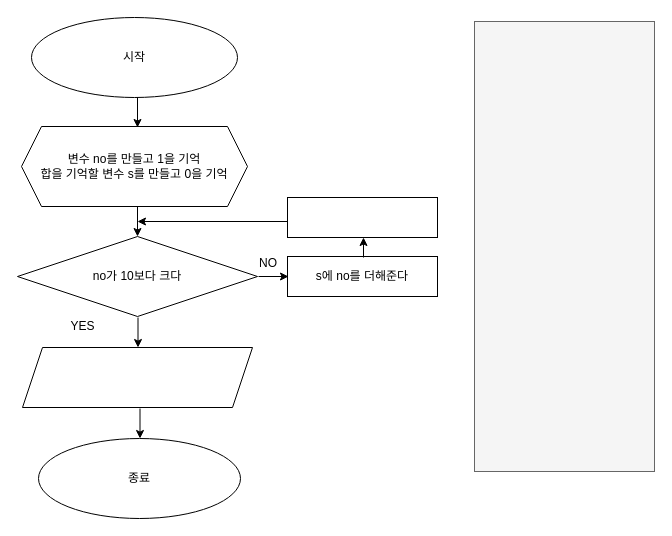
Some shapes in this 672 by 536 pixel diagram are drawn without their labels. Each missing label, with the box of its shape:
no에 1을 더해준다: (286, 196, 438, 238)
변수 s의 합으로 출력: (22, 346, 252, 408)
시작 no = 1 s = 0 no <= 10이라면 s = s + no no = no+1 no > 10 라면 s출력 종료: (474, 20, 654, 472)
